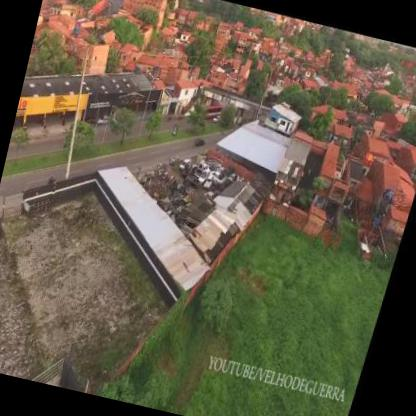lixo: (146, 167, 200, 226), (187, 154, 240, 201)
